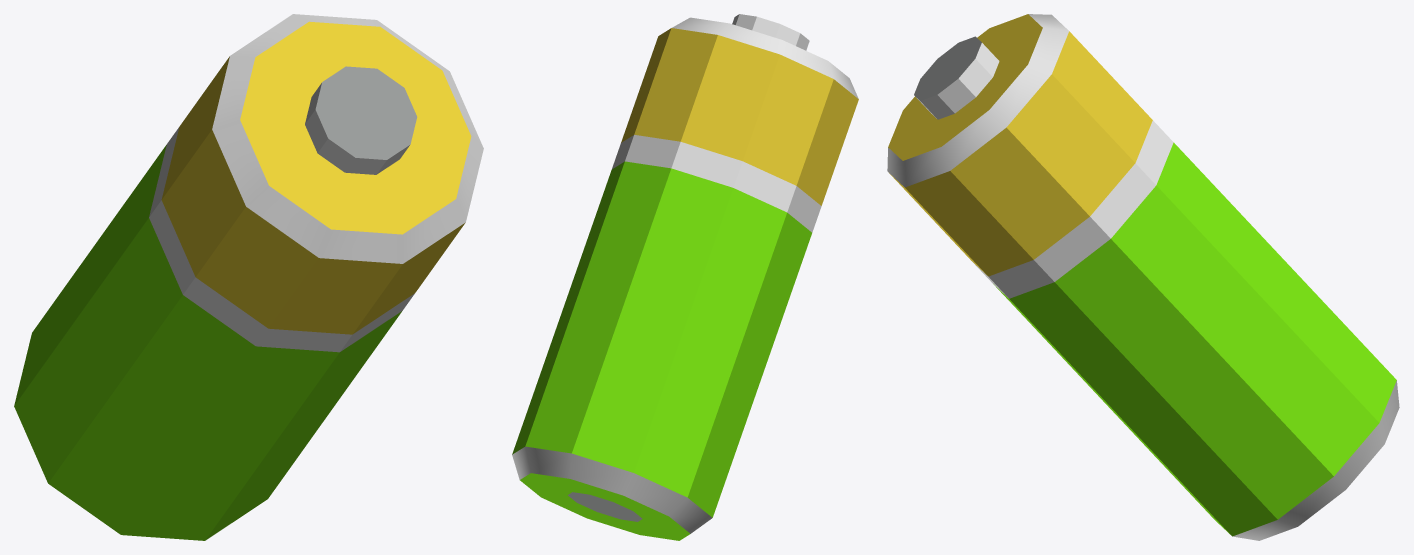
The model's file is battery.fbx.
3 views of the same model, side by side, from view 1: azimuth 30°, elevation 25°; view 2: azimuth 150°, elevation 25°; view 3: azimuth 270°, elevation 25° (orthographic). The views are drawn at different scales.
Parts seen in each view (by area): view 1: Battery; view 2: Battery; view 3: Battery.
Part boxes in pixels (left/top/right/bottom): Battery: left=14, top=14, right=483, bottom=540; Battery: left=512, top=14, right=858, bottom=540; Battery: left=887, top=14, right=1399, bottom=540.
Size of the model in its own units: 18.06 by 43.8 by 40.72.
